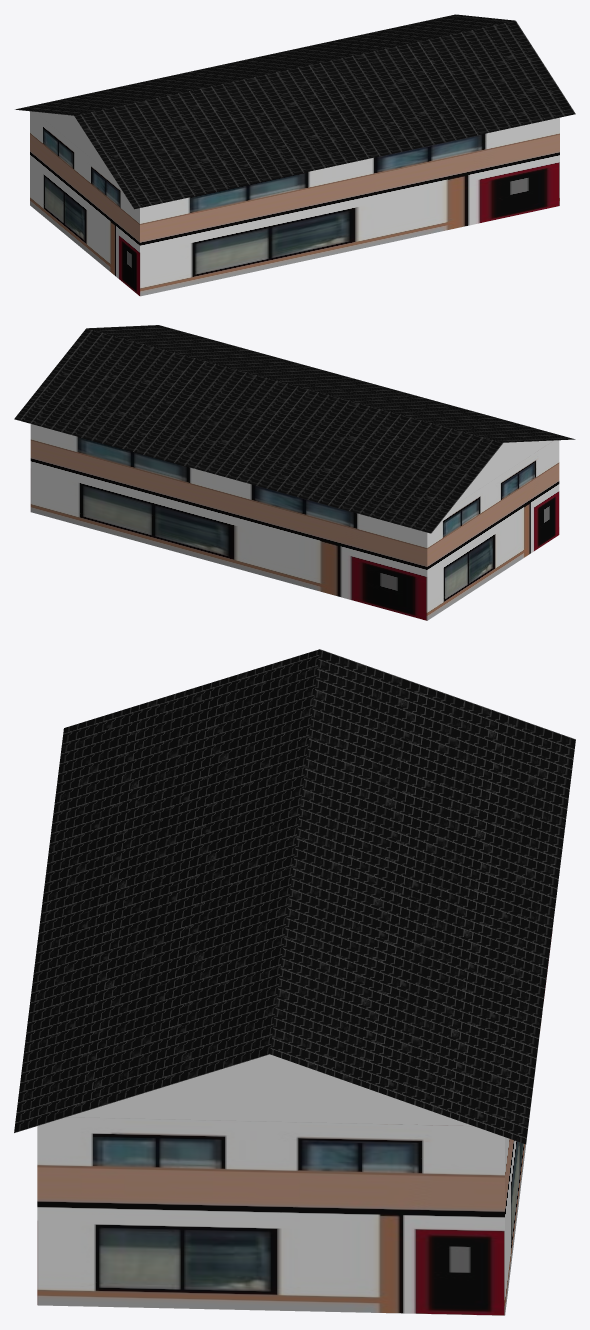
3 renders of one model, top to bottom at view 1: azimuth 30°, elevation 25°; view 2: azimuth 150°, elevation 25°; view 3: azimuth 270°, elevation 25°, orthographic. The views are drawn at different scales.
Visible parts, largest first — view 1: CityEngineMaterial_14_m, CityEngineMaterial_5_m, CityEngineMaterial_3_m; view 2: CityEngineMaterial_14_m, CityEngineMaterial_5_m, CityEngineMaterial_3_m; view 3: CityEngineMaterial_14_m, CityEngineMaterial_5_m, CityEngineMaterial_3_m.
Boxes of the visible parts, x1=… form: CityEngineMaterial_14_m: x1=15, y1=14, x2=575, y2=209; CityEngineMaterial_5_m: x1=30, y1=111, x2=559, y2=296; CityEngineMaterial_3_m: x1=35, y1=112, x2=112, y2=175; CityEngineMaterial_14_m: x1=14, y1=325, x2=575, y2=533; CityEngineMaterial_5_m: x1=30, y1=424, x2=559, y2=620; CityEngineMaterial_3_m: x1=453, y1=440, x2=553, y2=505; CityEngineMaterial_14_m: x1=14, y1=649, x2=575, y2=1144; CityEngineMaterial_5_m: x1=37, y1=930, x2=552, y2=1315; CityEngineMaterial_3_m: x1=67, y1=1054, x2=472, y2=1125.
Bounding box in the file's own units: 41.69 × 12.43 × 23.78.
